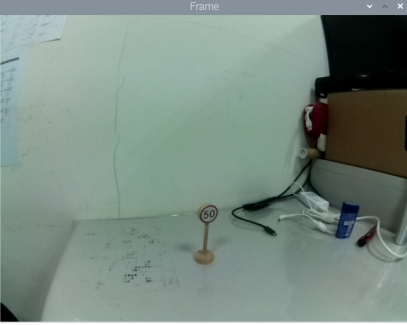Speed50: (198, 203, 221, 228)
